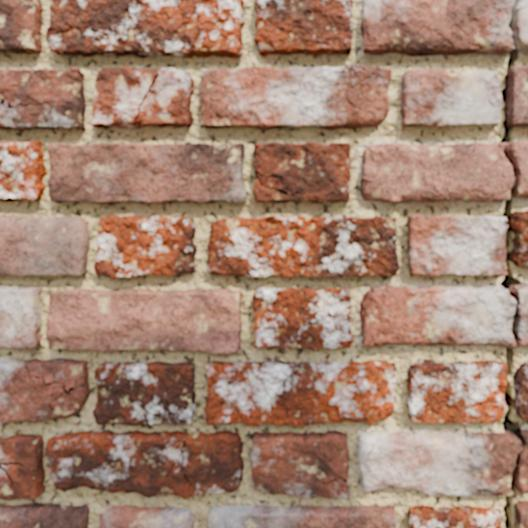brick: (45, 430, 243, 498), (205, 361, 395, 426), (46, 289, 241, 352), (48, 143, 246, 203), (200, 67, 390, 129), (207, 216, 398, 276), (46, 0, 243, 57), (250, 431, 349, 498), (407, 359, 506, 424), (93, 362, 195, 424), (94, 216, 195, 278), (91, 67, 193, 127), (253, 288, 352, 349), (408, 215, 506, 275), (253, 142, 349, 202), (401, 69, 500, 127), (0, 359, 89, 422), (255, 0, 352, 55), (0, 216, 89, 275), (0, 68, 84, 130), (208, 505, 396, 527), (0, 434, 44, 499), (0, 141, 45, 200), (0, 285, 41, 348), (0, 0, 42, 53), (0, 503, 88, 527), (100, 506, 194, 527), (408, 506, 500, 527), (507, 66, 527, 125), (510, 211, 527, 266), (514, 362, 527, 418), (515, 501, 527, 527)
broken_brick: (357, 430, 520, 497), (359, 284, 514, 347), (359, 141, 512, 203), (359, 0, 512, 56), (512, 140, 527, 197), (516, 285, 527, 347), (518, 0, 527, 52), (519, 447, 527, 495), (522, 429, 527, 442)
crack: (499, 0, 527, 527), (106, 73, 158, 126), (254, 170, 312, 198), (0, 97, 55, 113), (0, 461, 23, 488), (338, 64, 365, 76), (318, 477, 347, 485), (205, 414, 228, 421)
